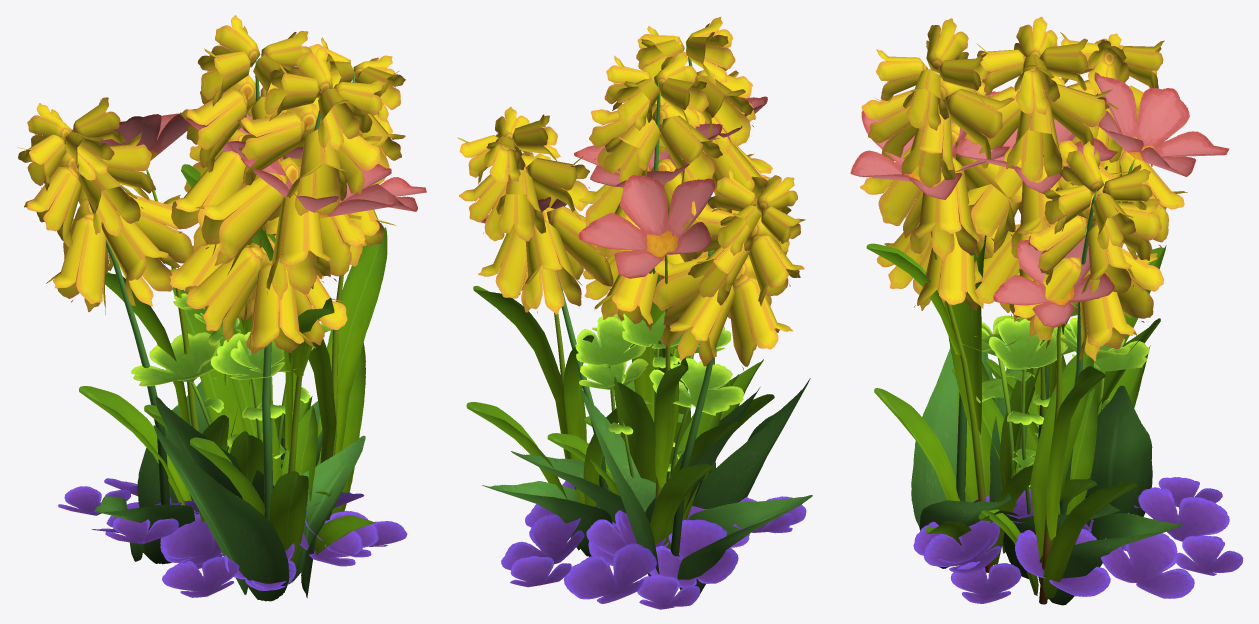
The model's file is megakit-flowers.phone.glb.
3 views of the same model, side by side, from view 1: azimuth 30°, elevation 25°; view 2: azimuth 150°, elevation 25°; view 3: azimuth 270°, elevation 25° (orthographic). The views are drawn at different scales.
Visible parts, largest first — view 1: Flower_4_Group, Flower_3_Group, Flower_4_Single, Plant_7_Big, Clover_2, Flower_3_Single, Plant_7, Clover_1; view 2: Flower_4_Group, Flower_3_Group, Flower_4_Single, Plant_7_Big, Flower_3_Single, Clover_2, Clover_1, Plant_7; view 3: Flower_4_Group, Flower_3_Group, Flower_4_Single, Plant_7_Big, Clover_2, Flower_3_Single, Plant_7, Clover_1.
Boxes of the visible parts, x1,y1,x2,y2 form: Flower_4_Group: (17,37,405,601); Flower_3_Group: (72,109,426,582); Flower_4_Single: (155,15,324,555); Plant_7_Big: (58,478,407,597); Clover_2: (131,293,332,454); Flower_3_Single: (144,112,340,505); Plant_7: (160,492,378,590); Clover_1: (134,316,313,458); Flower_4_Group: (457,17,812,599); Flower_3_Group: (466,96,774,549); Flower_4_Single: (511,52,760,523); Plant_7_Big: (501,481,806,609); Flower_3_Single: (547,123,738,496); Clover_2: (579,311,741,480); Clover_1: (575,317,743,471); Plant_7: (525,481,749,565); Flower_4_Group: (860,18,1187,605); Flower_3_Group: (850,72,1229,604); Flower_4_Single: (965,16,1130,578); Plant_7_Big: (913,477,1243,603); Clover_2: (974,302,1149,514); Flower_3_Single: (952,91,1160,521); Plant_7: (924,488,1126,596); Clover_1: (963,317,1130,507).
Bounding box in the file's own units: 1.81 × 2.49 × 1.64.
2 materials, 2 textured.
